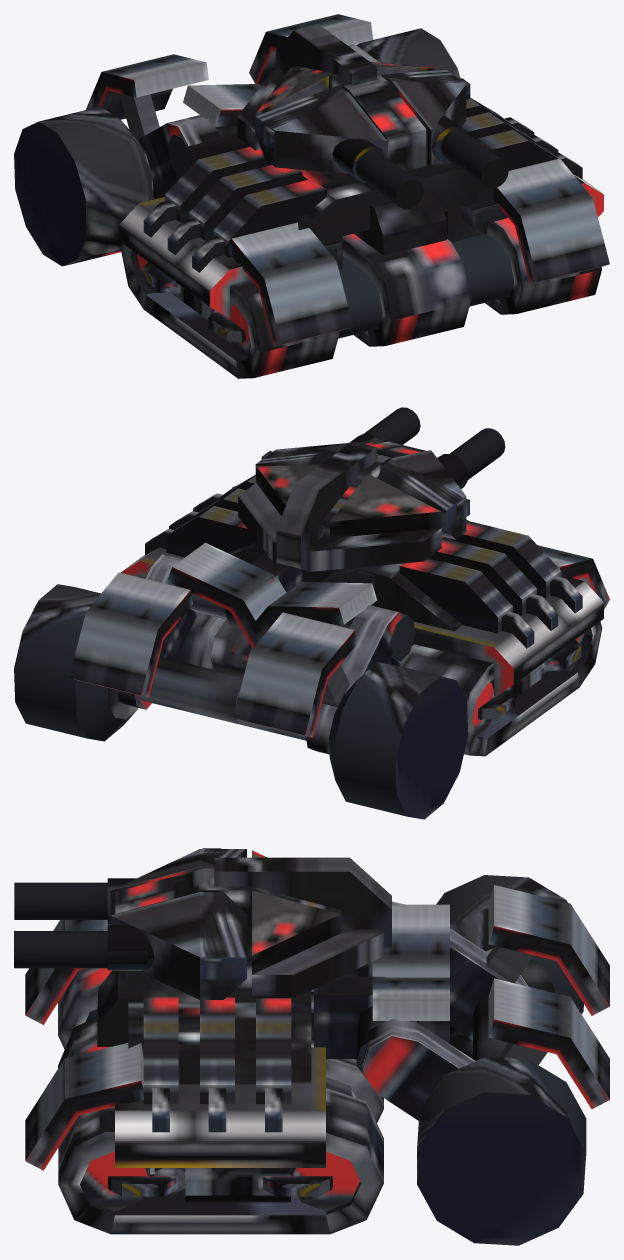
Rendered from armbull_red.glb.
The picture shows the model from 3 angles, top to bottom: view 1: azimuth 30°, elevation 25°; view 2: azimuth 150°, elevation 25°; view 3: azimuth 270°, elevation 25°; orthographic projection. The views are drawn at different scales.
Parts seen in each view (by area): view 1: base, lwheel, turret, laxle, lsleeve, rsleeve, raxle, rwheel, lbarrel, rbarrel; view 2: base, raxle, turret, laxle, lwheel, rwheel, lsleeve, rsleeve, rbarrel, lbarrel; view 3: base, rwheel, turret, raxle, laxle, rsleeve, lwheel, lbarrel, rbarrel, lsleeve.
Boxes of the visible parts, x1,y1,x2,y2 form: base: (119, 98, 609, 378); lwheel: (14, 106, 153, 266); turret: (237, 24, 441, 171); laxle: (86, 54, 260, 199); lsleeve: (255, 85, 387, 182); rsleeve: (381, 69, 470, 166); raxle: (249, 14, 379, 85); rwheel: (356, 28, 460, 78); lbarrel: (440, 129, 508, 188); rbarrel: (355, 150, 423, 209); base: (121, 475, 609, 756); raxle: (69, 542, 286, 723); turret: (238, 441, 441, 571); laxle: (221, 582, 408, 754); lwheel: (329, 662, 468, 819); rwheel: (14, 584, 138, 741); lsleeve: (377, 450, 469, 539); rsleeve: (255, 434, 387, 482); rbarrel: (449, 428, 505, 479); lbarrel: (364, 407, 420, 444); base: (25, 920, 419, 1234); rwheel: (417, 1057, 586, 1245); turret: (115, 850, 391, 998); raxle: (362, 977, 609, 1120); laxle: (372, 885, 609, 1060); rsleeve: (107, 892, 246, 999); lwheel: (436, 875, 583, 1058); lbarrel: (14, 931, 147, 968); rbarrel: (14, 882, 107, 919); lsleeve: (107, 848, 246, 924).
Bounding box in the file's own units: 41.03 × 23.35 × 46.21.
Materials: 1 (1 with a texture image).
